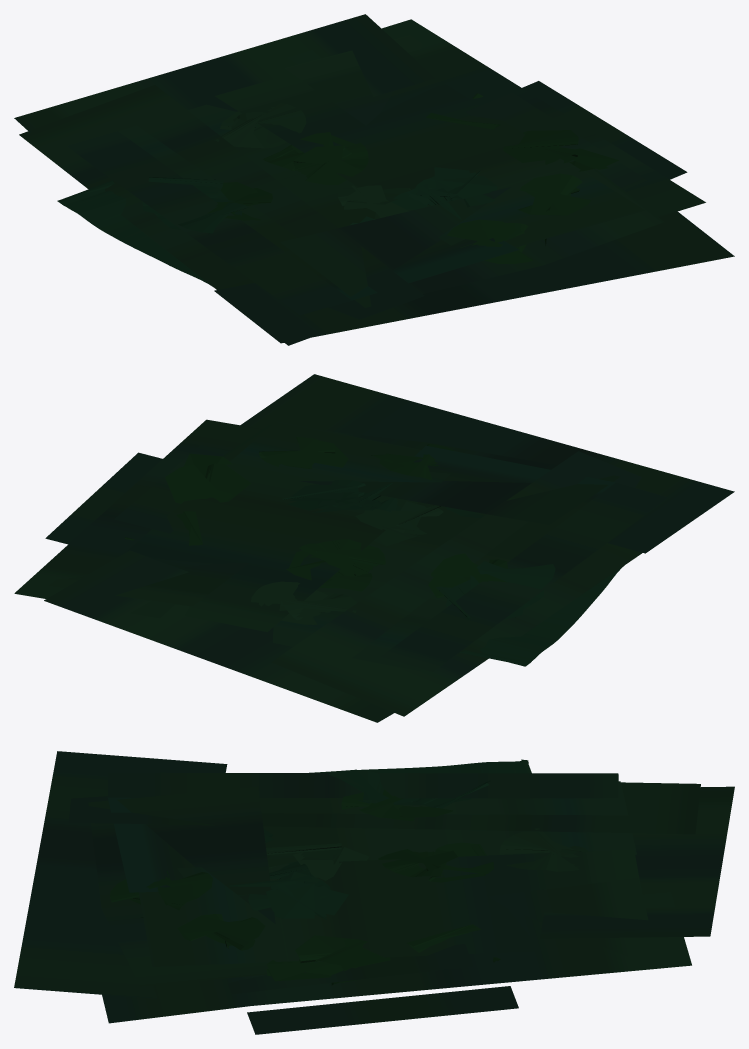
File: Lodpatch.fbx
The picture shows the model from 3 angles, top to bottom: view 1: azimuth 30°, elevation 25°; view 2: azimuth 150°, elevation 25°; view 3: azimuth 270°, elevation 25°; orthographic projection. The views are drawn at different scales.
Parts seen in each view (by area): view 1: Patch; view 2: Patch; view 3: Patch.
Boxes of the visible parts, x1,y1,x2,y2 form: Patch: (14, 14, 734, 345); Patch: (14, 374, 734, 722); Patch: (14, 751, 734, 1034).
Size of the model in its own units: 1.36 by 0.12 by 1.53.
